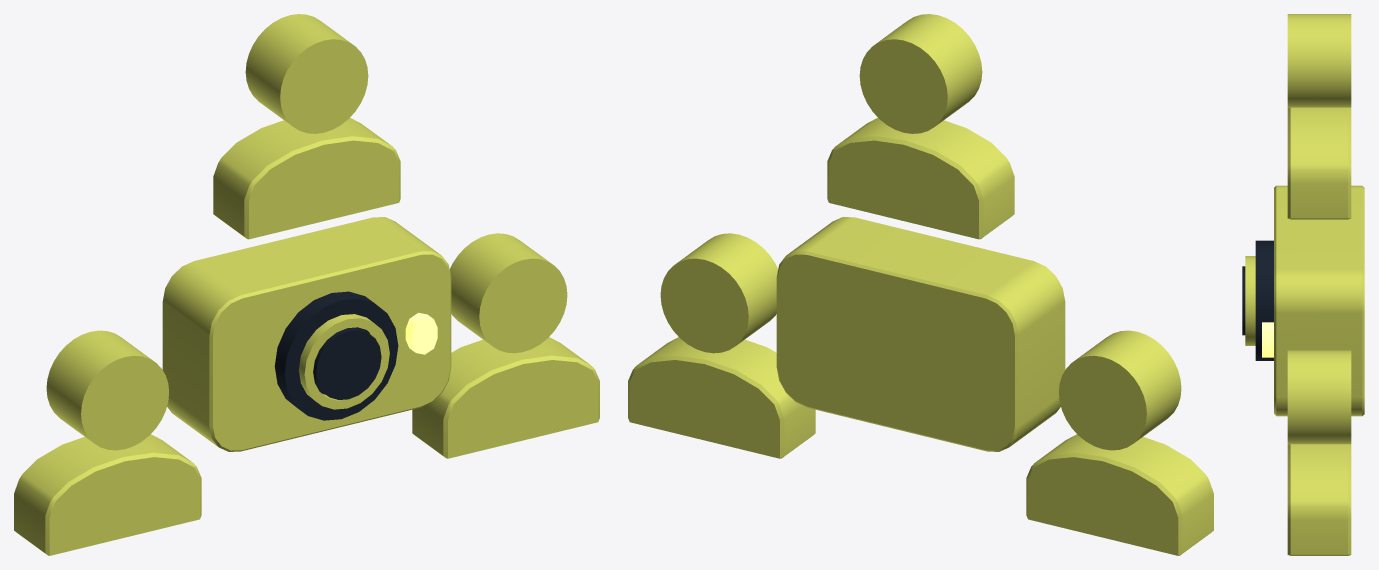
The model's file is pn_ico_pantalla.glb.
The picture shows the model from 3 angles, left to right: view 1: azimuth 30°, elevation 25°; view 2: azimuth 150°, elevation 25°; view 3: azimuth 270°, elevation 25°; orthographic projection. The views are drawn at different scales.
Visible parts, largest first — view 1: pn_ico_pantalla; view 2: pn_ico_pantalla; view 3: pn_ico_pantalla.
Boxes of the visible parts, left/top/right/bottom form: pn_ico_pantalla: left=14, top=14, right=599, bottom=555; pn_ico_pantalla: left=628, top=14, right=1213, bottom=555; pn_ico_pantalla: left=1242, top=14, right=1364, bottom=555.
Bounding box in the file's own units: 0.48 × 0.3717 × 0.0997.
